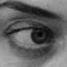eye: (32, 30, 47, 44)
